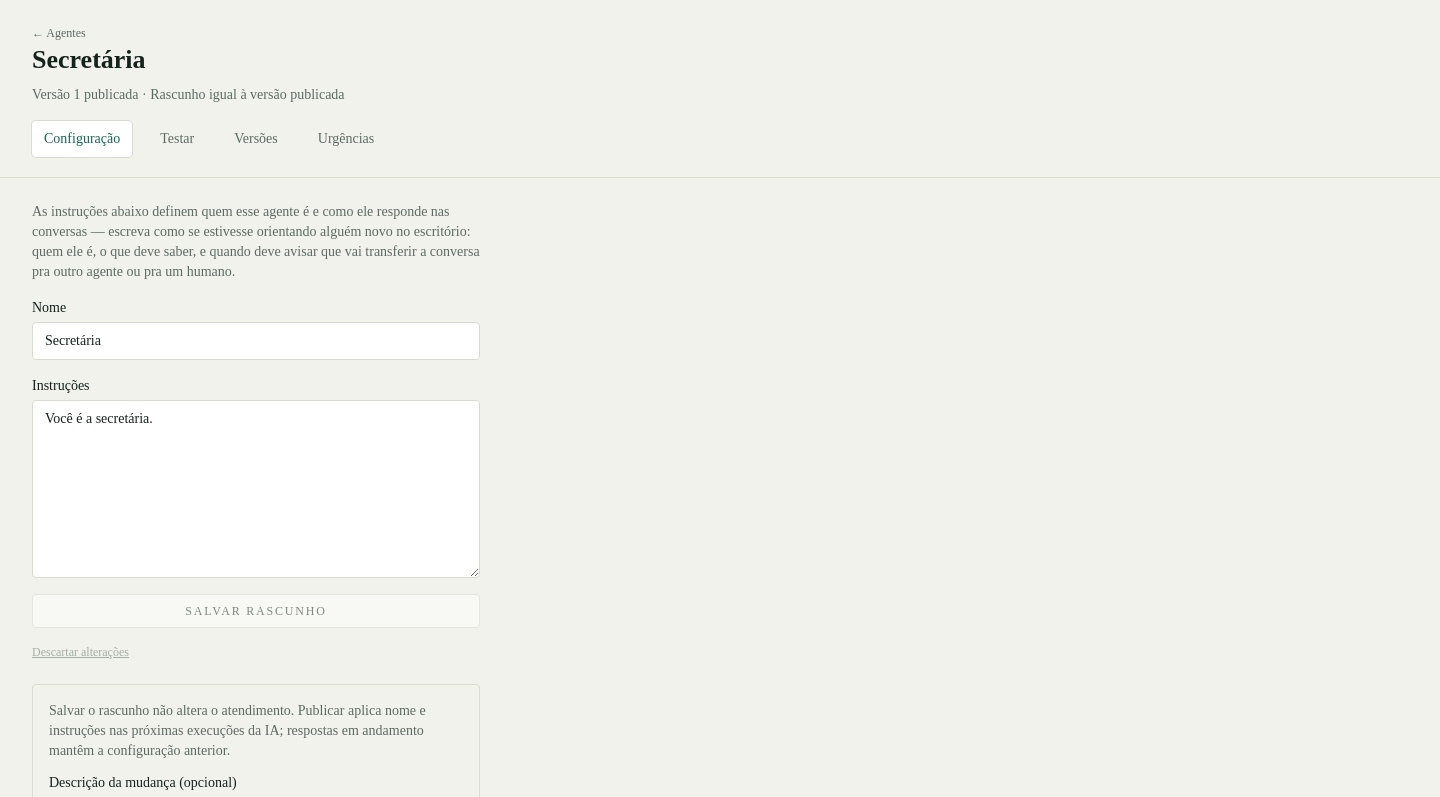
Test: AgentDetail › exige salvar antes de testar e mostra aviso de créditos
Replace the text in the field labelled "Nome" with "Não salvo" at x=256, y=340, box [32,322,480,360]
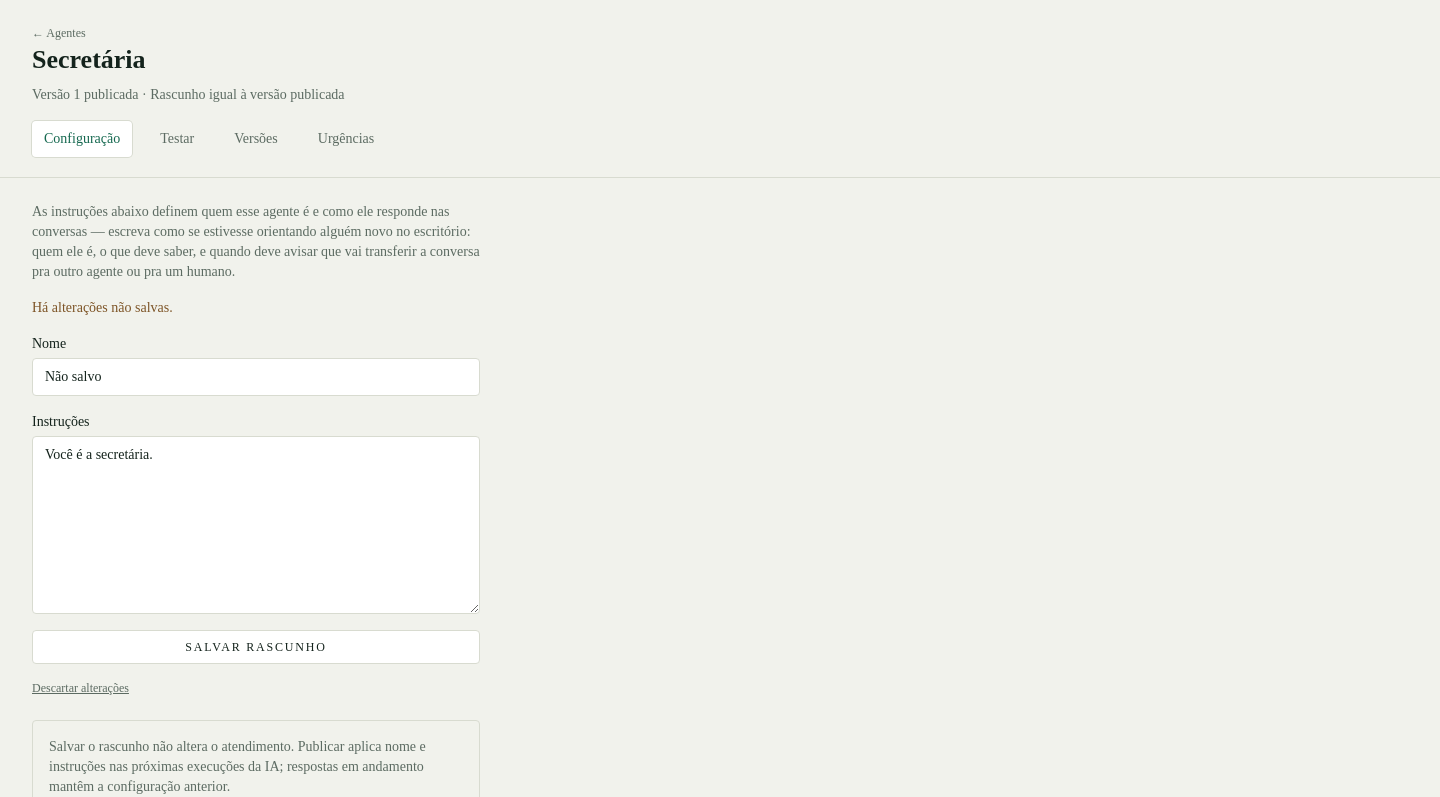
Click the button "Testar".
click(177, 138)  # box [148,120,206,156]
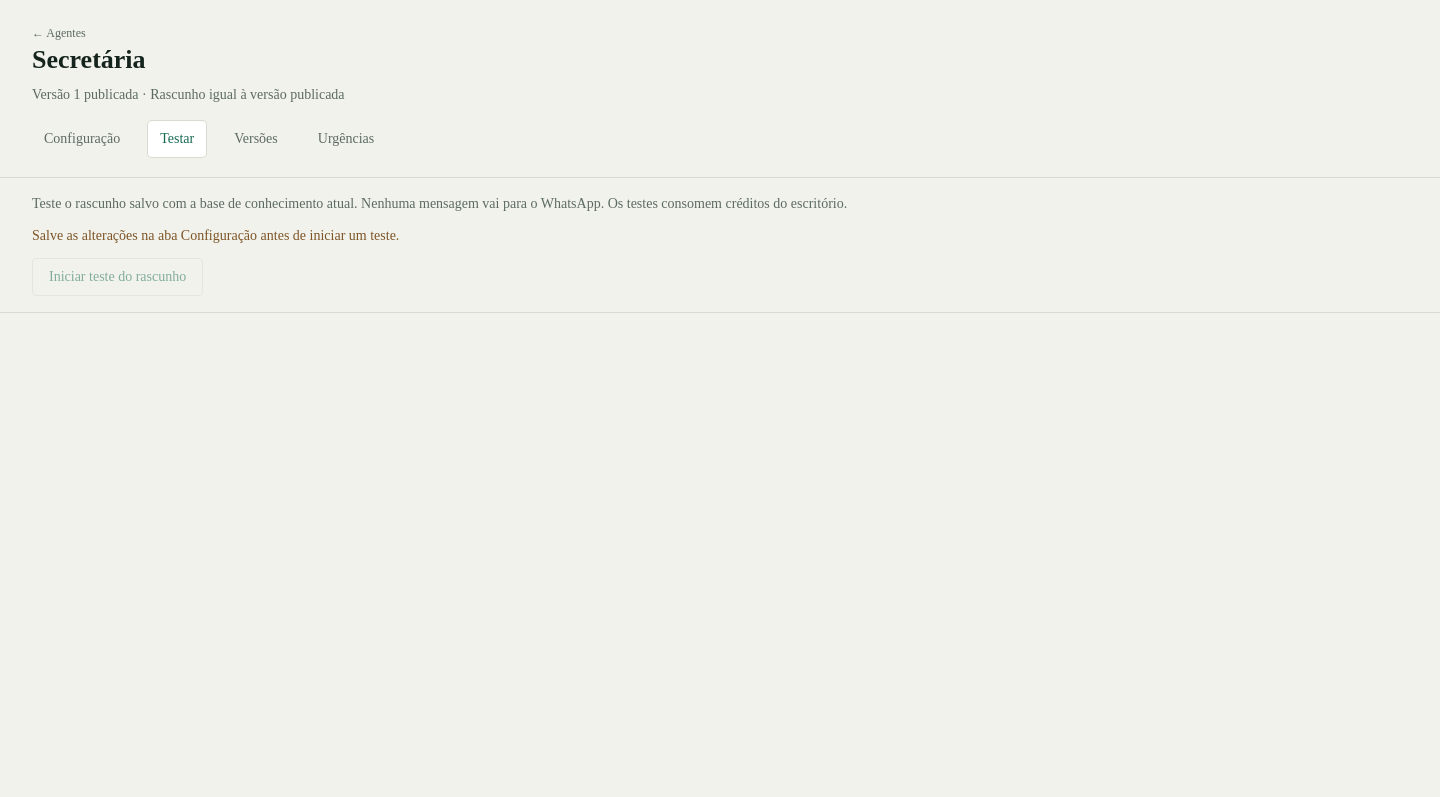
Result: the text "Os testes consomem créditos do escritório" is shown at [32,196,847,210]
Result: the button "Iniciar teste do rascunho" is disabled at [32,258,203,296]
